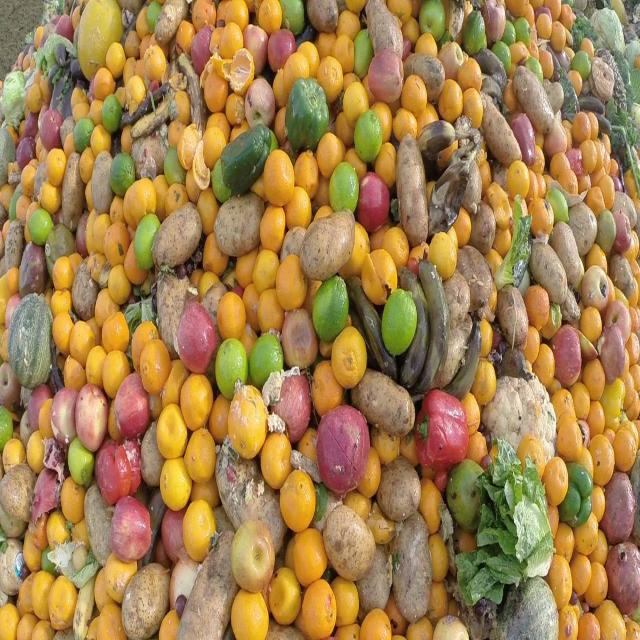food_waste: (67, 55, 589, 596), (324, 252, 524, 403)
